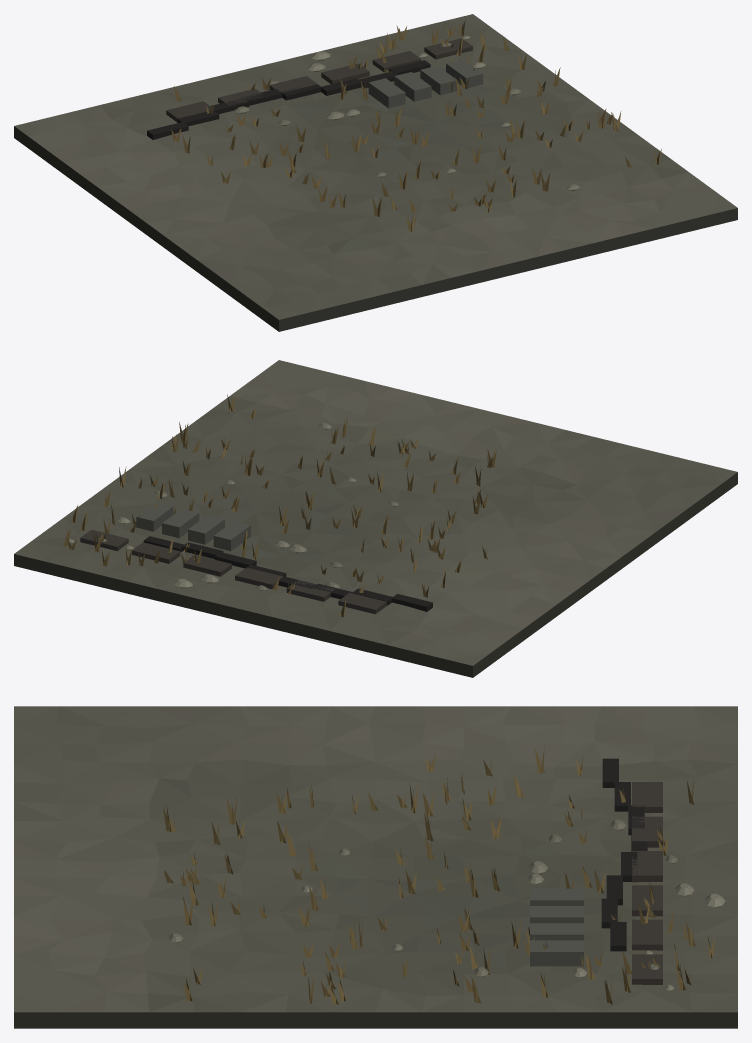
The model's file is CHUNK_oath_battlefield__burnt_field_hospital__10.glb.
The picture shows the model from 3 angles, top to bottom: view 1: azimuth 30°, elevation 25°; view 2: azimuth 150°, elevation 25°; view 3: azimuth 270°, elevation 25°; orthographic projection. The views are drawn at different scales.
Parts seen in each view (by area): view 1: CHUNK_oath_battlefield__burnt_field_hospital__10; view 2: CHUNK_oath_battlefield__burnt_field_hospital__10; view 3: CHUNK_oath_battlefield__burnt_field_hospital__10.
Boxes of the visible parts, x1,y1,x2,y2 form: CHUNK_oath_battlefield__burnt_field_hospital__10: (14,14,737,331); CHUNK_oath_battlefield__burnt_field_hospital__10: (14,360,737,677); CHUNK_oath_battlefield__burnt_field_hospital__10: (14,706,737,1028).
Size of the model in its own units: 8 by 0.5594 by 8.
